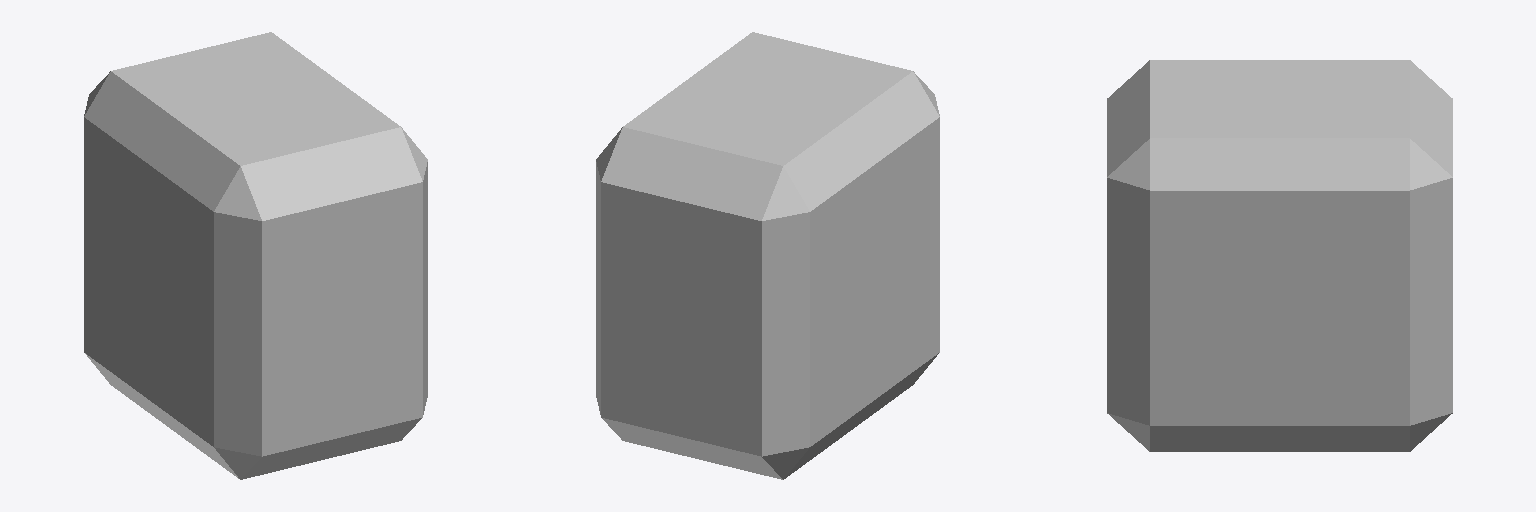
Rendered from bazaTun.obj.
The picture shows the model from 3 angles: view 1: azimuth 30°, elevation 25°; view 2: azimuth 150°, elevation 25°; view 3: azimuth 270°, elevation 25°; orthographic projection.
Parts seen in each view (by area): view 1: Cube.005; view 2: Cube.005; view 3: Cube.005.
Part boxes in pixels (left/top/right/bottom): Cube.005: left=84, top=32, right=427, bottom=479; Cube.005: left=596, top=32, right=939, bottom=479; Cube.005: left=1107, top=60, right=1452, bottom=451.
Bounding box in the file's own units: 1 × 1.4 × 1.4.